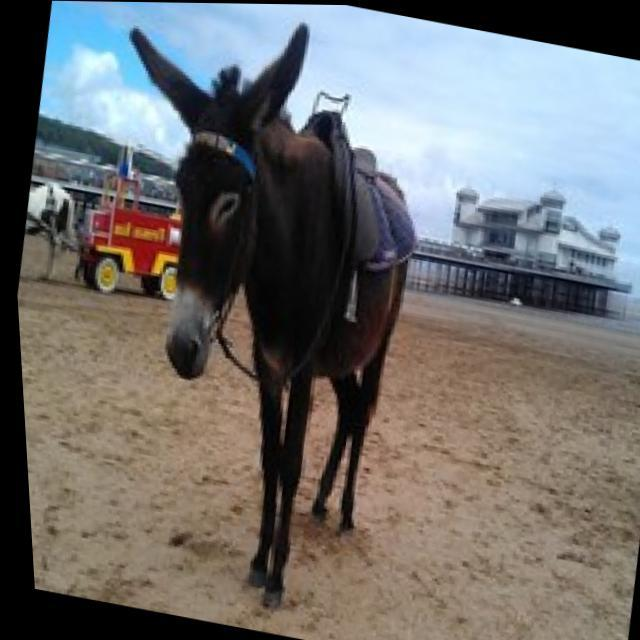Donkey: (10, 0, 479, 638)
